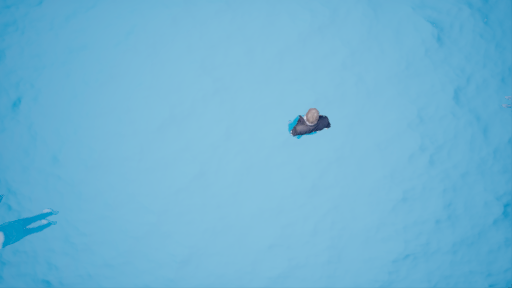person: (260, 94, 341, 140)
